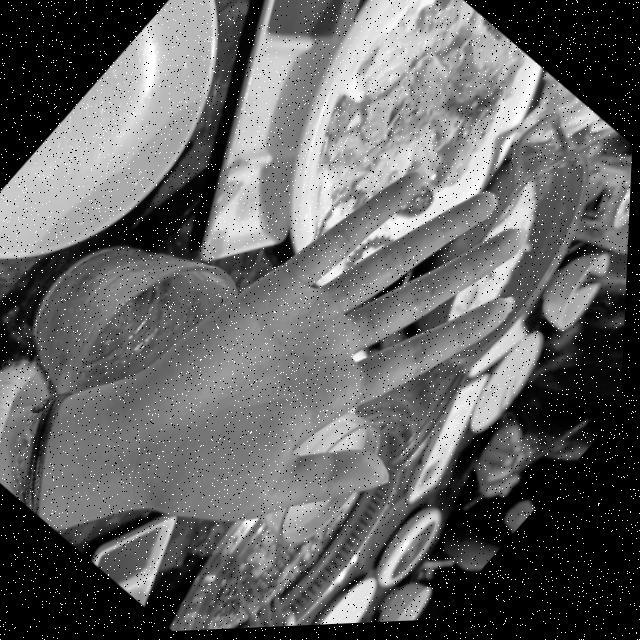no-gloves: (0, 35, 597, 640)
